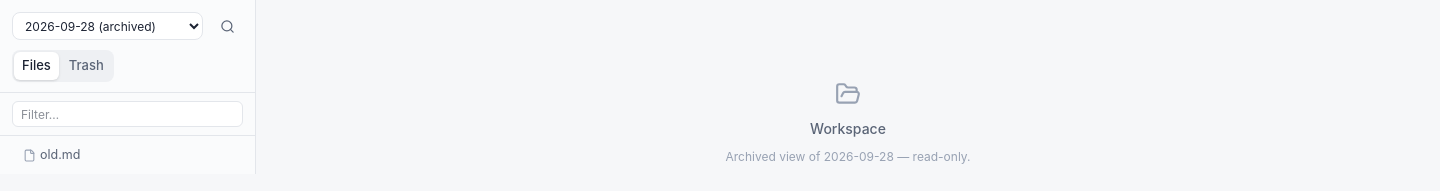
Test: WorkspacePage archived day › reads the archived day read-only, never falling back to today
What coordinates should you click on to do the following:
click the button "old.md"
I would click on:
 (128, 155)
Its box is [6,142,249,168].
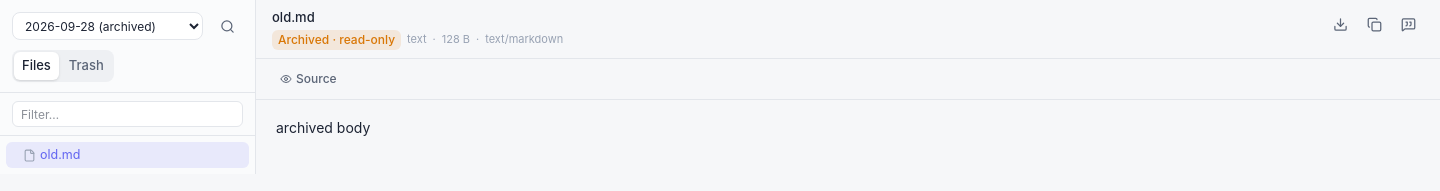
Check: the text "Archived · read-only" is shown, box [272,30,401,50]
